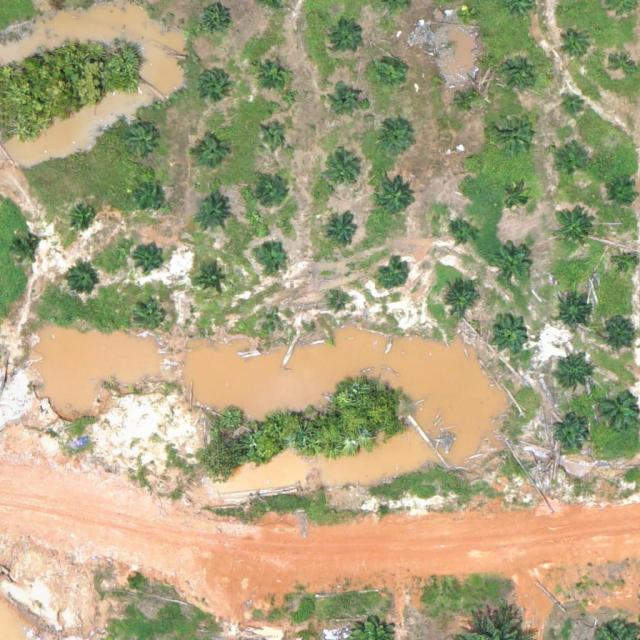Small: (493, 107, 540, 155), (594, 388, 640, 435), (376, 175, 415, 215), (325, 152, 364, 192), (500, 55, 539, 95), (374, 119, 413, 159), (194, 197, 234, 236), (254, 53, 293, 93), (552, 355, 591, 395), (488, 313, 528, 352), (441, 278, 480, 318), (553, 208, 592, 247), (491, 245, 530, 284), (556, 294, 595, 333), (551, 416, 590, 455), (598, 312, 637, 351), (256, 239, 287, 271), (258, 177, 289, 209), (195, 137, 226, 169), (128, 128, 159, 160), (135, 180, 166, 212), (135, 241, 166, 273), (198, 266, 229, 298), (200, 4, 231, 36), (328, 218, 359, 249), (378, 260, 409, 291), (332, 83, 363, 114), (331, 23, 362, 54), (553, 150, 584, 181), (373, 58, 404, 89), (198, 69, 229, 100), (67, 266, 98, 297), (606, 179, 637, 210), (501, 185, 532, 216), (448, 220, 479, 251), (453, 85, 484, 116), (136, 305, 167, 336), (69, 201, 100, 232), (12, 236, 43, 267), (560, 30, 591, 61), (616, 254, 640, 278), (562, 94, 586, 118), (612, 54, 636, 78), (262, 124, 285, 148), (331, 292, 347, 308), (458, 6, 473, 22), (462, 153, 478, 168), (272, 314, 287, 329)
